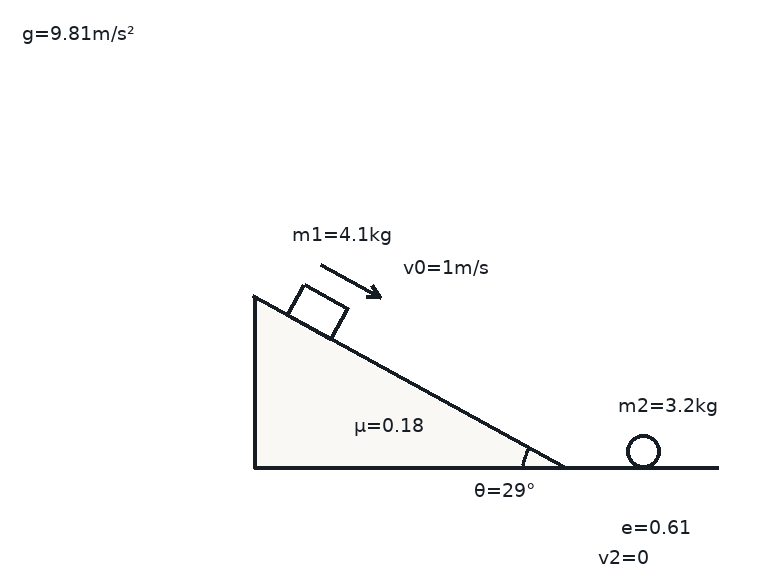ball: (624, 432, 662, 470)
block: (285, 282, 349, 341)
ramp: (251, 294, 565, 470)
